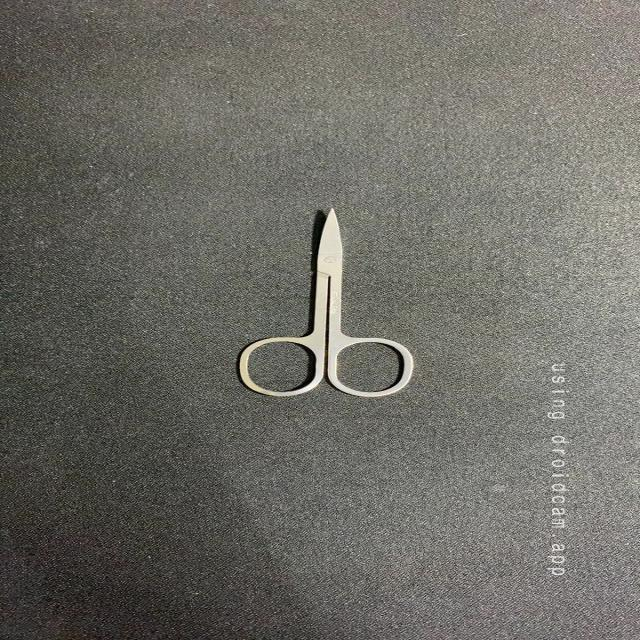scissor: (230, 202, 420, 402)
